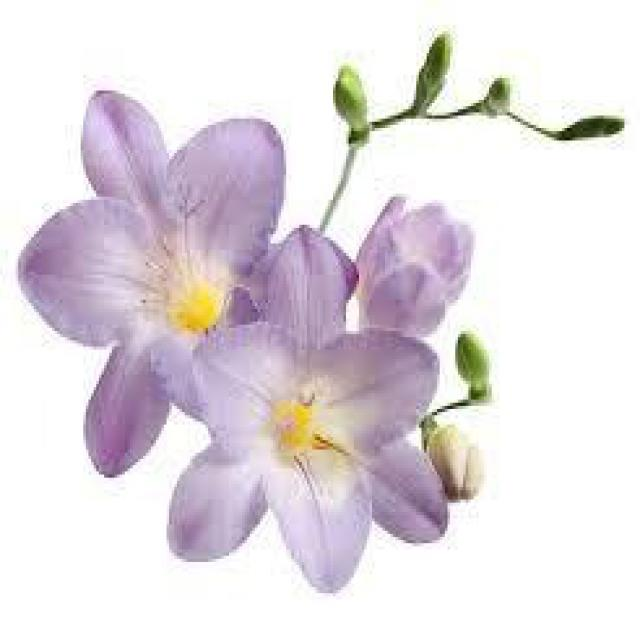freesia: (35, 79, 365, 488), (164, 228, 446, 602), (351, 180, 479, 338)
